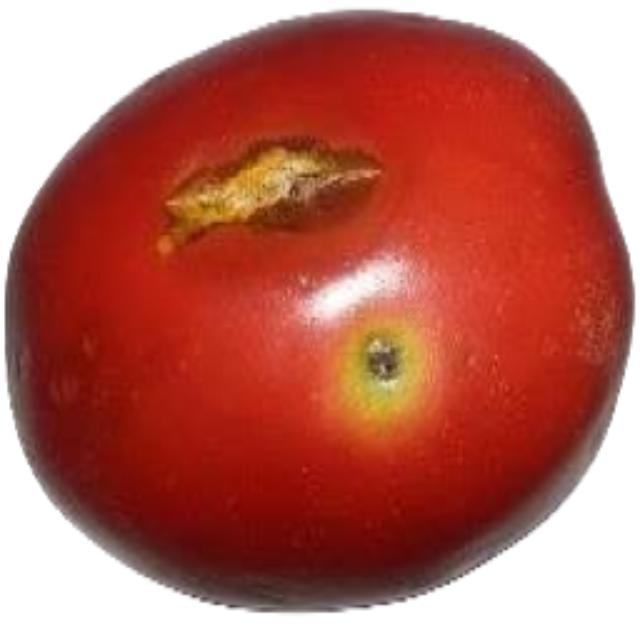defect: (4, 8, 640, 620)
